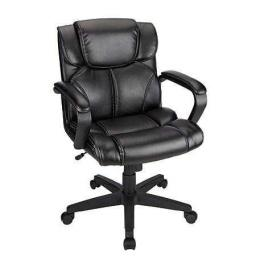Chair: (56, 18, 197, 250)
